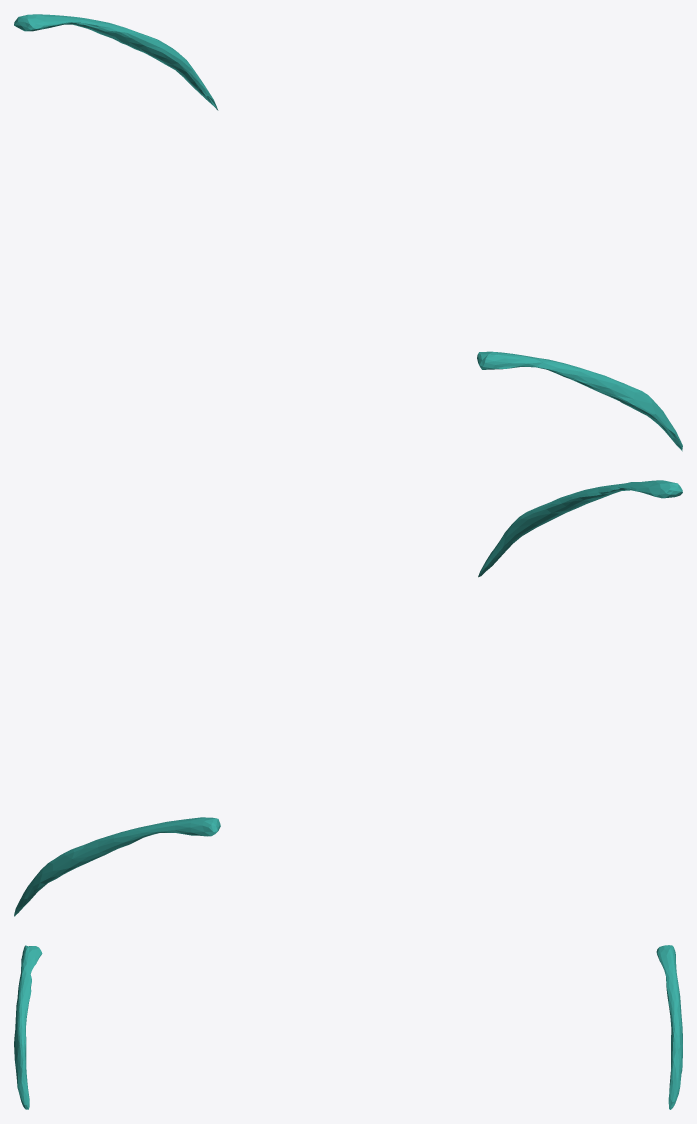
3 renders of one model, top to bottom at view 1: azimuth 30°, elevation 25°; view 2: azimuth 150°, elevation 25°; view 3: azimuth 270°, elevation 25°, orthographic. The views are drawn at different scales.
Parts seen in each view (by area): view 1: 692.obj; view 2: 692.obj; view 3: 692.obj.
Part boxes in pixels (x1=…): 692.obj: x1=14, y1=14, x2=682, y2=451; 692.obj: x1=14, y1=480, x2=682, y2=916; 692.obj: x1=14, y1=945, x2=682, y2=1109.
Bounding box in the file's own units: 2234 × 1494 × 9186.
